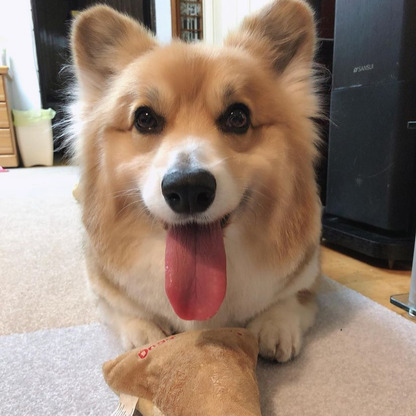Corgi: (54, 6, 352, 376)
